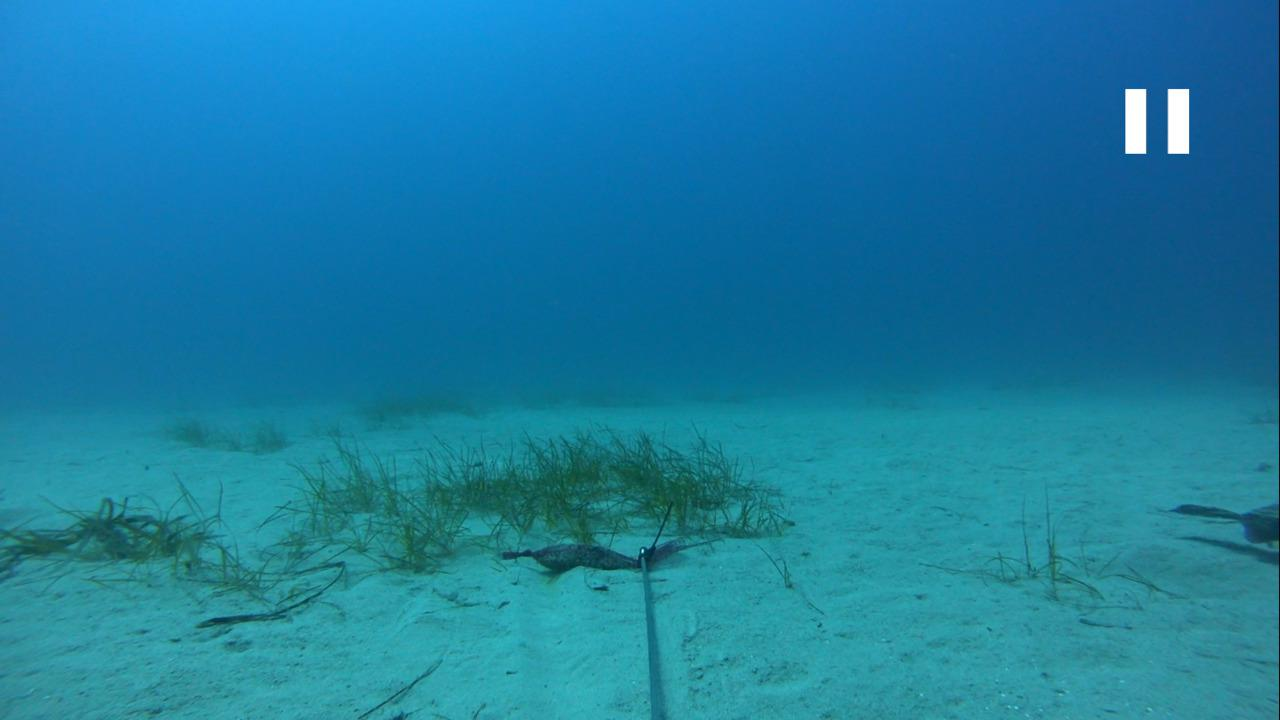dactylopterus: (1160, 489, 1279, 565)
